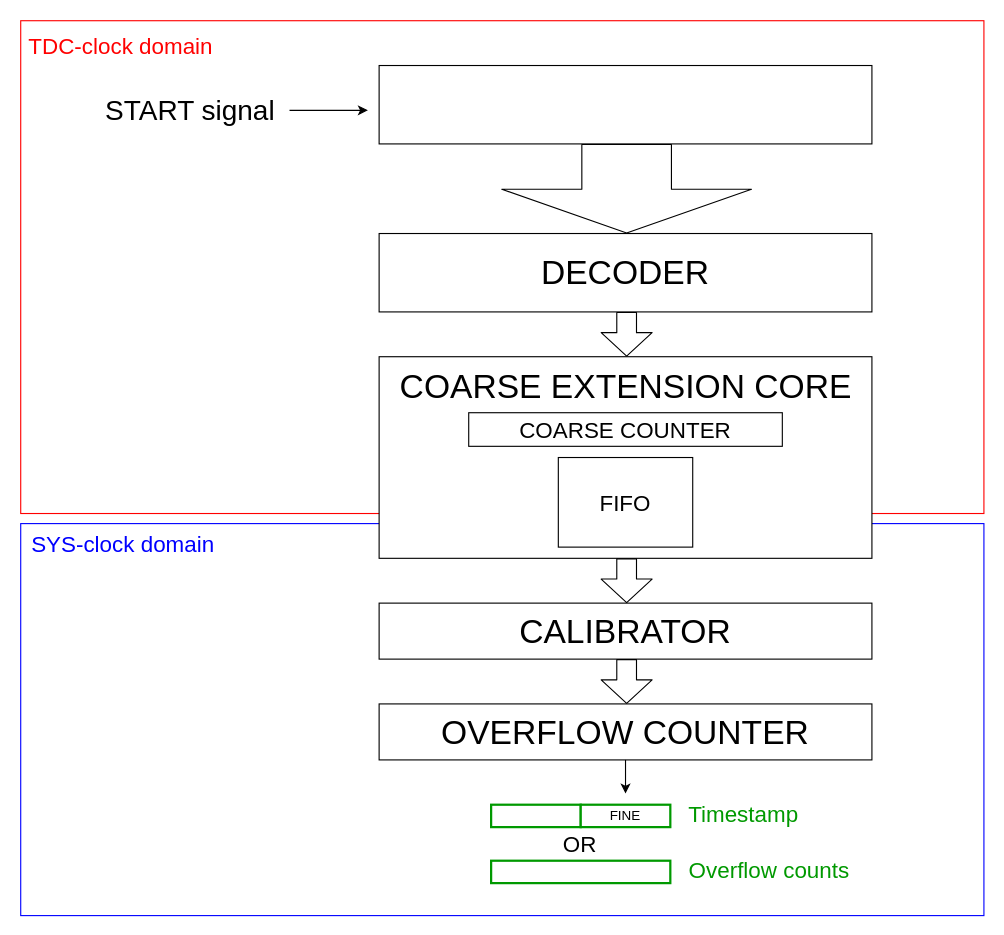
Some shapes in this 1004 by 935 pixel diagram are drawn without their labels. The centre of each missing label's shape, as x and y in pixels:
"COARSE" belongs at point 535,815.
"OV_cnt" belongs at point 580,871.
"V-TDL" belongs at point 625,104.
